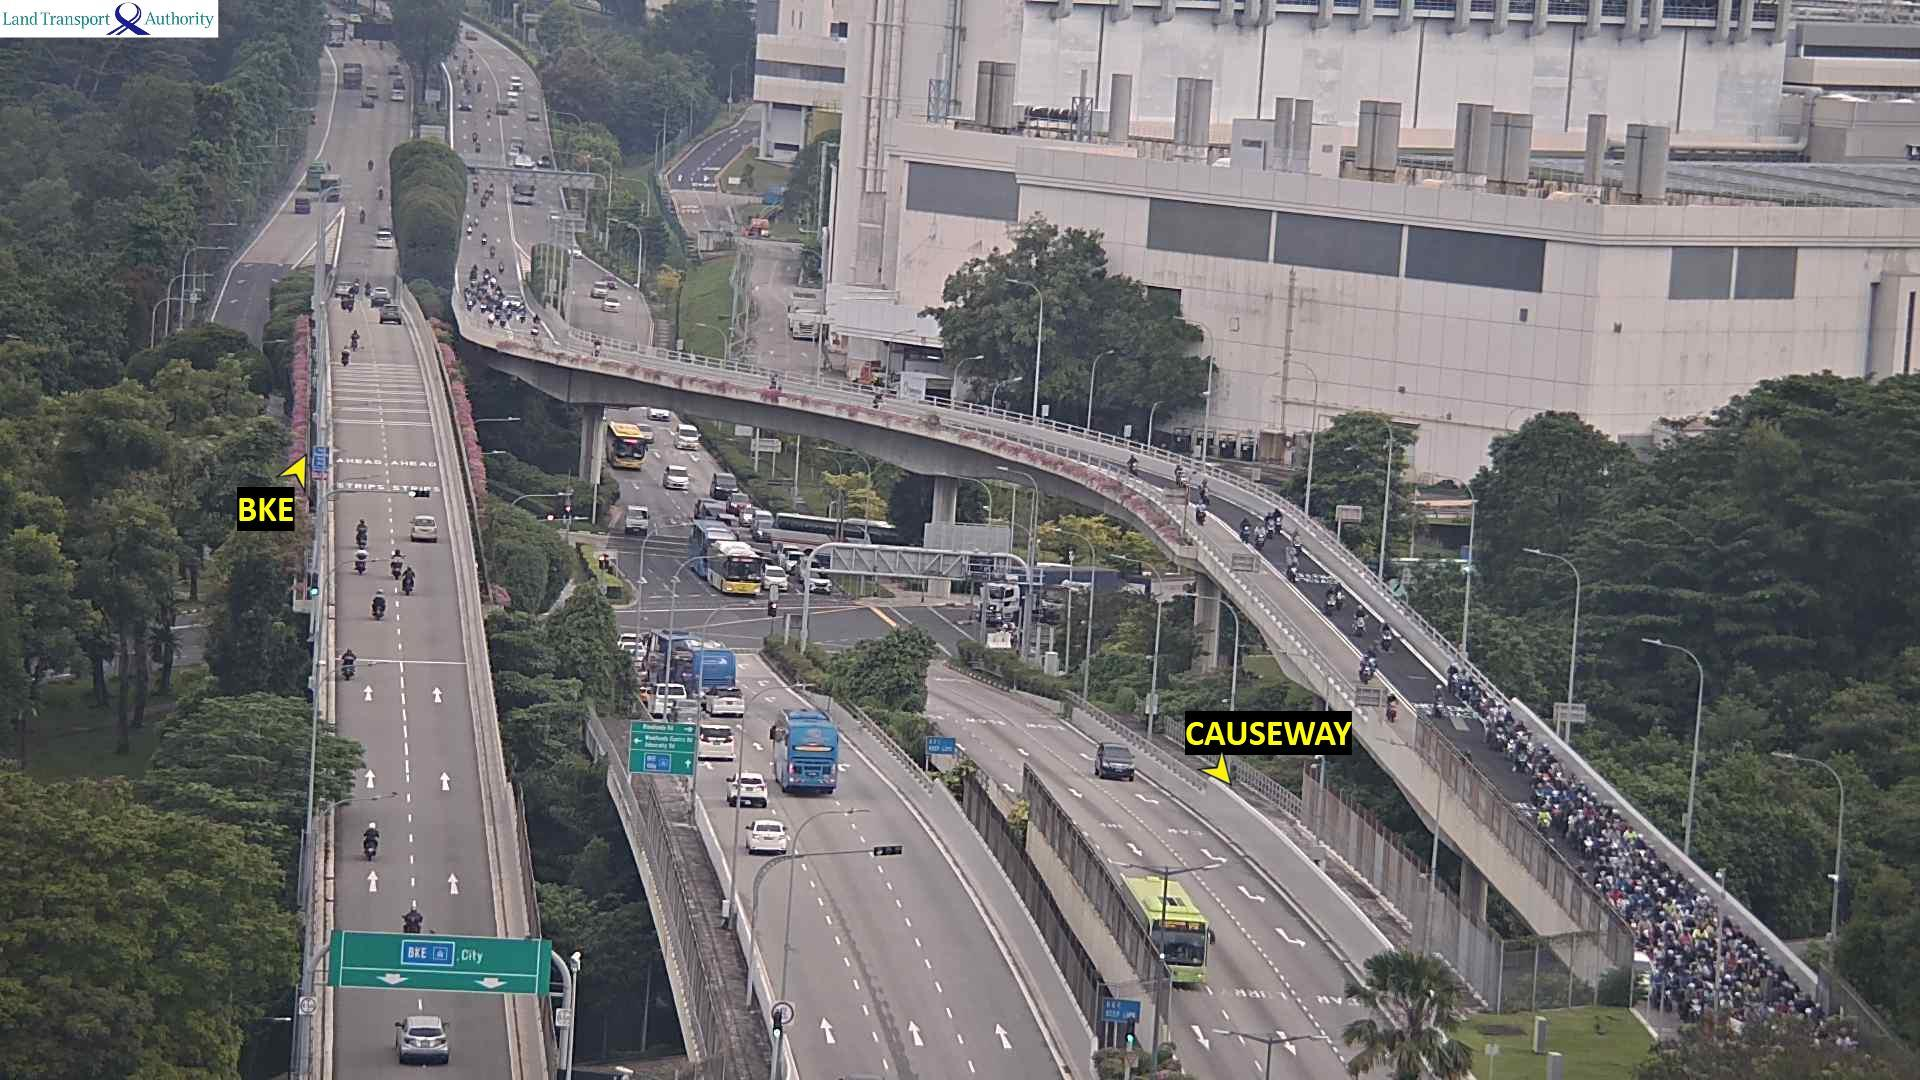vehicle-causeway-johor: (1118, 876, 1206, 978), (1085, 747, 1136, 783), (1633, 953, 1652, 991), (1684, 985, 1699, 1025), (1534, 807, 1551, 831), (1386, 692, 1400, 721), (1594, 825, 1605, 861), (1655, 977, 1669, 1005), (1664, 929, 1678, 957), (1456, 672, 1471, 698), (1435, 684, 1446, 719), (1684, 928, 1696, 959), (1532, 775, 1546, 800), (1288, 550, 1299, 579), (1648, 884, 1660, 910), (1567, 808, 1577, 838), (1671, 868, 1683, 892), (1693, 886, 1703, 914), (1516, 739, 1525, 770), (1360, 658, 1371, 683), (1366, 645, 1377, 670), (1195, 499, 1205, 526), (1256, 525, 1266, 551), (1201, 479, 1211, 505), (1176, 464, 1187, 487), (1616, 855, 1627, 878), (1381, 623, 1391, 648), (1241, 516, 1251, 541), (1595, 858, 1605, 883), (503, 294, 522, 307), (1477, 691, 1487, 715), (1639, 915, 1649, 939), (1326, 586, 1334, 615), (1623, 826, 1634, 847), (1273, 508, 1282, 533), (1264, 512, 1273, 537), (1494, 720, 1503, 745), (1355, 607, 1363, 635), (1664, 900, 1678, 915), (1448, 664, 1456, 690), (1699, 929, 1709, 949), (1686, 879, 1696, 899), (1336, 582, 1343, 608), (1291, 528, 1299, 550), (1569, 812, 1577, 833), (770, 376, 781, 390), (534, 314, 542, 333), (1633, 873, 1641, 891), (1637, 837, 1645, 855), (1645, 853, 1651, 876), (1130, 456, 1137, 475), (1551, 799, 1558, 817), (1585, 832, 1592, 850), (1600, 867, 1606, 888), (1536, 749, 1543, 765), (873, 395, 881, 407), (593, 341, 601, 353), (479, 298, 487, 310), (470, 265, 477, 278), (466, 223, 473, 236), (473, 179, 479, 193), (500, 313, 506, 326), (481, 233, 487, 246), (467, 298, 473, 310), (490, 246, 496, 258), (489, 312, 494, 326), (499, 262, 505, 272), (484, 269, 490, 279)
vehicle-causeway-singapore: (772, 718, 850, 778), (678, 653, 746, 693), (395, 1029, 454, 1067), (776, 765, 843, 796), (737, 822, 789, 855), (726, 776, 778, 806), (396, 1016, 449, 1044), (699, 722, 745, 742), (703, 703, 749, 721), (412, 518, 444, 543), (869, 840, 904, 856), (361, 827, 378, 858), (378, 304, 401, 325), (340, 648, 355, 677), (404, 905, 420, 932), (367, 594, 383, 618), (402, 566, 415, 595), (354, 546, 367, 574), (375, 231, 393, 249), (356, 518, 367, 547), (391, 550, 402, 577), (372, 289, 390, 305), (336, 281, 352, 294), (340, 346, 349, 366), (342, 296, 353, 311), (352, 329, 360, 348), (360, 207, 366, 224), (365, 281, 372, 295), (378, 184, 384, 200), (354, 276, 360, 292), (368, 159, 374, 171)
